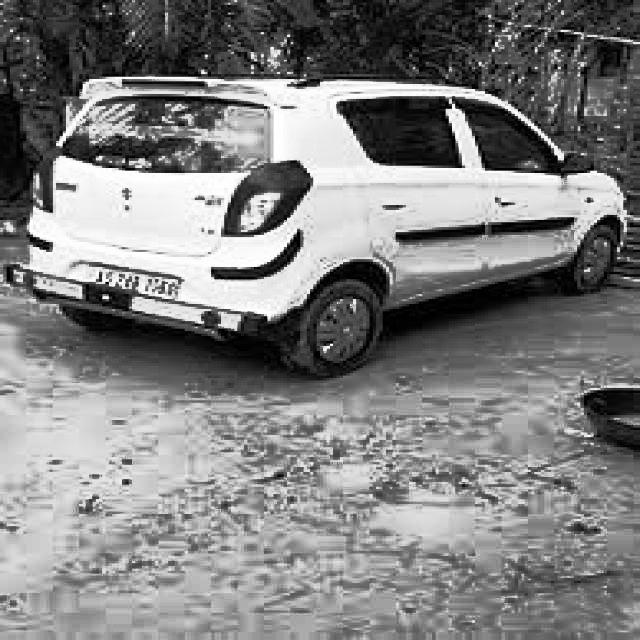Car: (39, 74, 639, 381)
